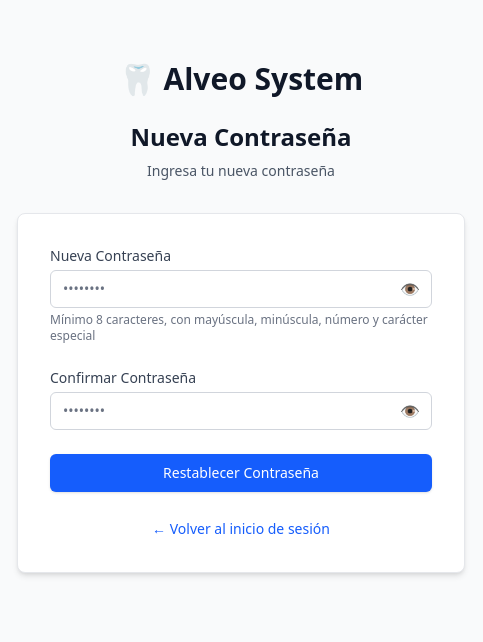
Test: ResetPasswordPage › error handling › should display TOKEN_EXPIRED error message
Type "NewPassword1!" into the password field labelled "Nueva Contraseña".
click(241, 289); type("NewPassword1!")  # box [50,270,432,308]
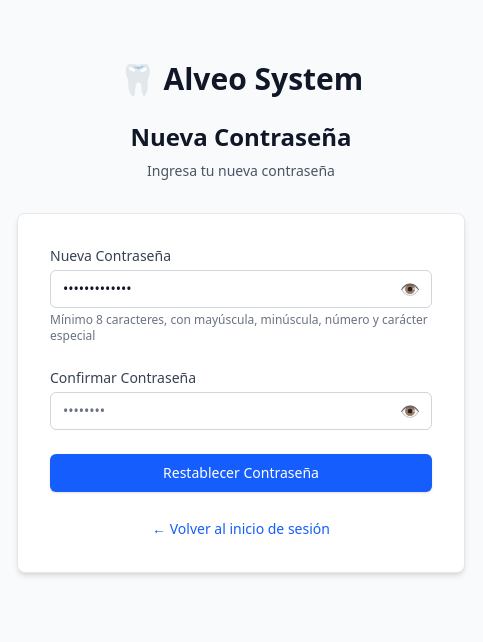
Type "NewPassword1!" into the password field labelled "Confirmar Contraseña".
click(241, 411); type("NewPassword1!")  # box [50,392,432,430]
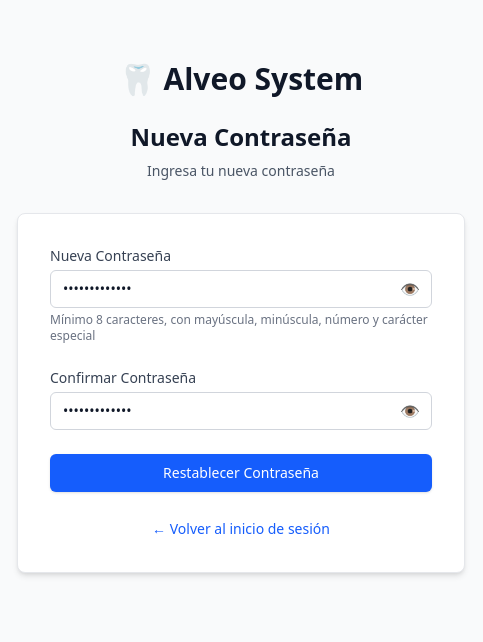
Click the button "Restablecer Contraseña".
click(241, 473)  # box [50,454,432,492]
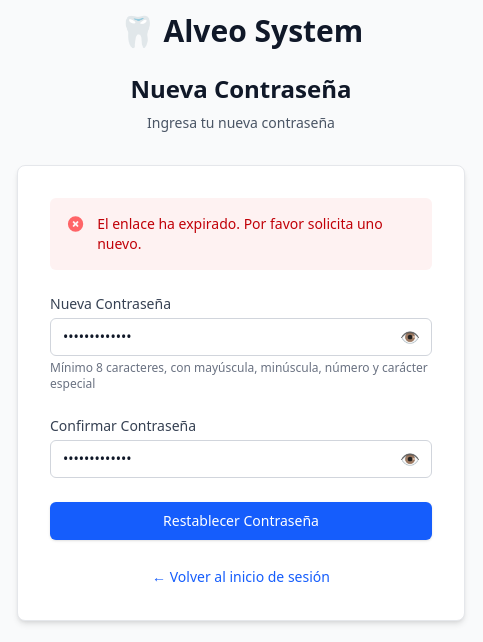
Result: the text "El enlace ha expirado. Por favor solicita uno nuevo." is shown at [97,214,416,254]
